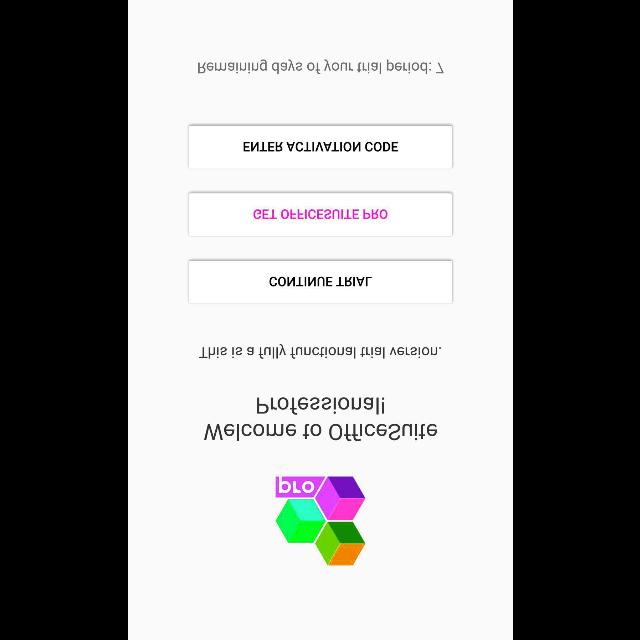image: (275, 476, 365, 566)
text: (203, 397, 437, 441), (198, 344, 440, 360), (197, 60, 443, 74)
textbutton: (188, 193, 452, 237), (188, 260, 452, 304), (188, 125, 452, 168)
